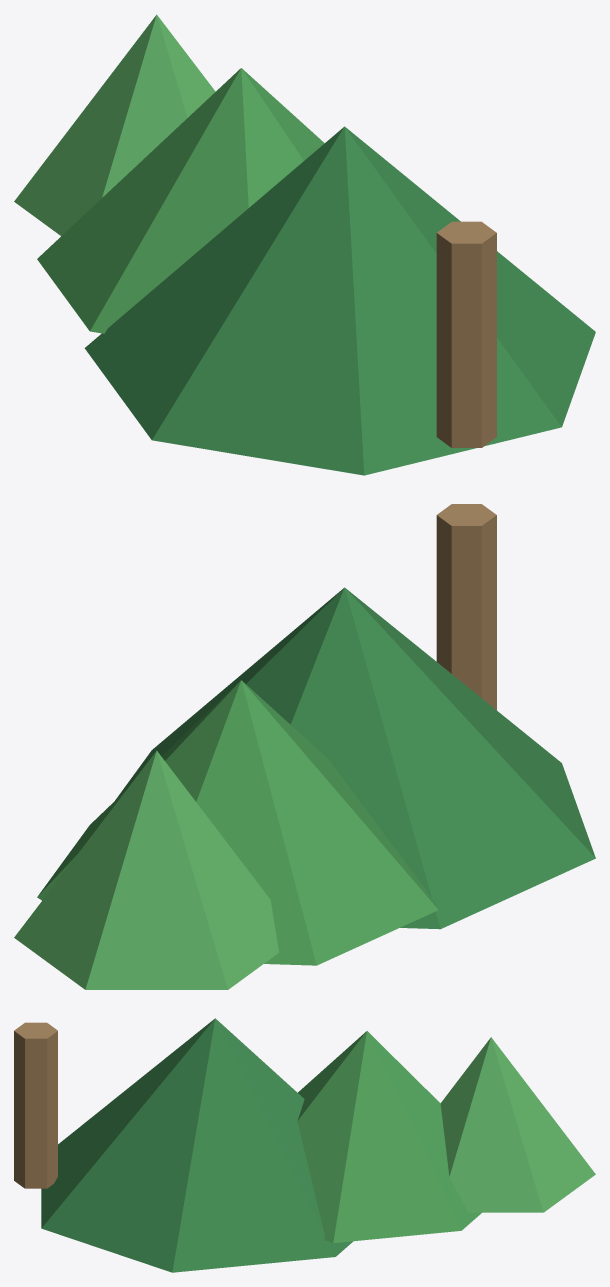
Rendered from prop-tree-pine.glb.
The picture shows the model from 3 angles, top to bottom: view 1: azimuth 30°, elevation 25°; view 2: azimuth 150°, elevation 25°; view 3: azimuth 270°, elevation 25°; orthographic projection. The views are drawn at different scales.
Visible parts, largest first — view 1: PineTier1, PineTier2, PineTier3, PineTrunk; view 2: PineTier1, PineTier2, PineTier3, PineTrunk; view 3: PineTier1, PineTier2, PineTier3, PineTrunk.
Boxes of the visible parts, left/top/right/bottom form: PineTier1: left=84, top=126, right=595, bottom=475; PineTier2: left=37, top=68, right=324, bottom=333; PineTier3: left=14, top=14, right=215, bottom=235; PineTrunk: left=436, top=221, right=496, bottom=447; PineTier1: left=115, top=587, right=595, bottom=929; PineTier2: left=37, top=680, right=438, bottom=965; PineTier3: left=14, top=750, right=278, bottom=989; PineTrunk: left=436, top=504, right=496, bottom=710; PineTier1: left=41, top=1018, right=352, bottom=1272; PineTier2: left=297, top=1031, right=481, bottom=1243; PineTier3: left=440, top=1037, right=595, bottom=1212; PineTrunk: left=14, top=1022, right=57, bottom=1188.
Bounding box in the file's own units: 136 × 70 × 211.
